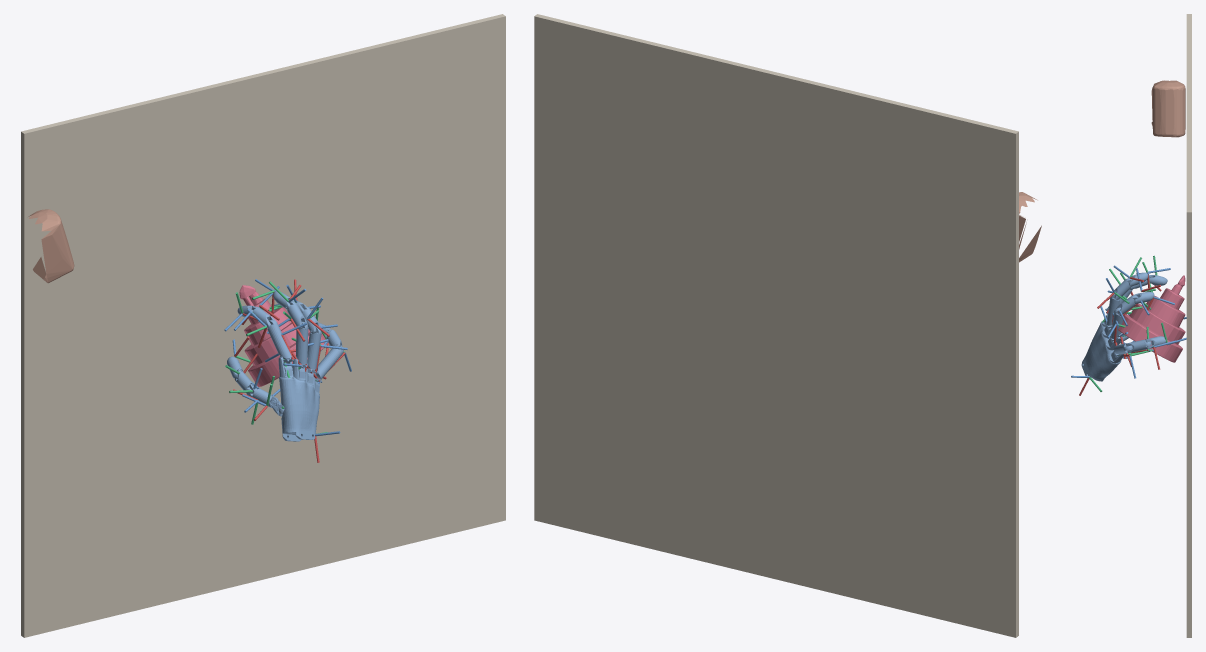
The picture shows the model from 3 angles, left to right: view 1: azimuth 30°, elevation 25°; view 2: azimuth 150°, elevation 25°; view 3: azimuth 270°, elevation 25°; orthographic projection. The views are drawn at different scales.
Visible parts, largest first — view 1: environment, hand, target_object, local_object_000; view 2: environment; view 3: environment, hand, target_object, local_object_000.
Boxes of the visible parts, x1,y1,x2,y2 form: environment: (21, 14, 505, 637); hand: (227, 291, 343, 441); target_object: (239, 285, 328, 386); local_object_000: (28, 209, 74, 283); environment: (534, 14, 1018, 637); environment: (1186, 14, 1191, 637); hand: (1081, 272, 1167, 381); target_object: (1118, 275, 1185, 362); local_object_000: (1151, 80, 1185, 137).
Size of the model in its own units: 0.7169 by 0.7 by 0.1803.
